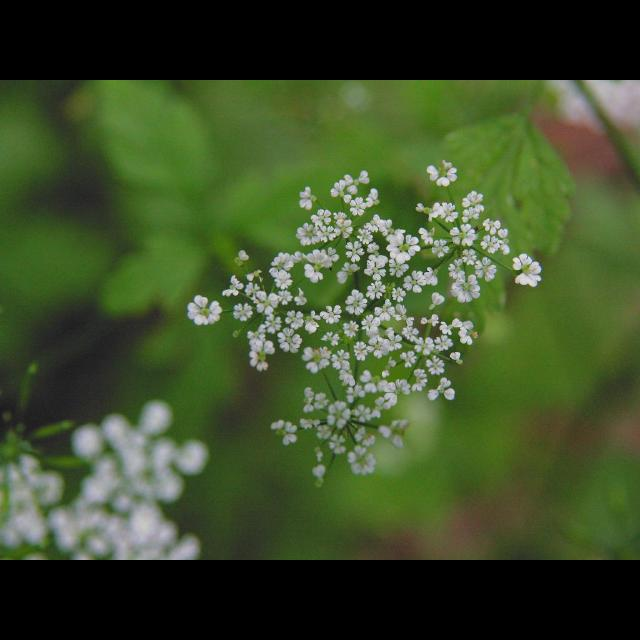Flower: (219, 170, 509, 474), (0, 398, 210, 560), (188, 295, 220, 325), (516, 252, 542, 288), (424, 160, 458, 186), (299, 185, 315, 212), (312, 464, 328, 478)
